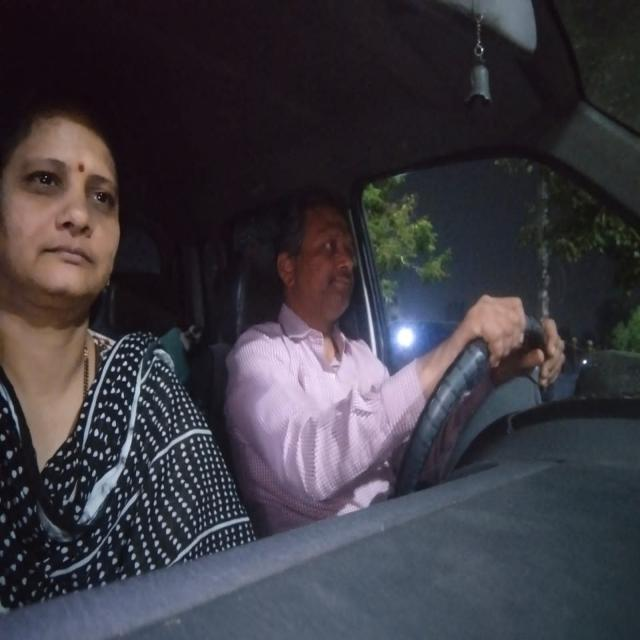person: (6, 100, 123, 311), (274, 191, 369, 332)
